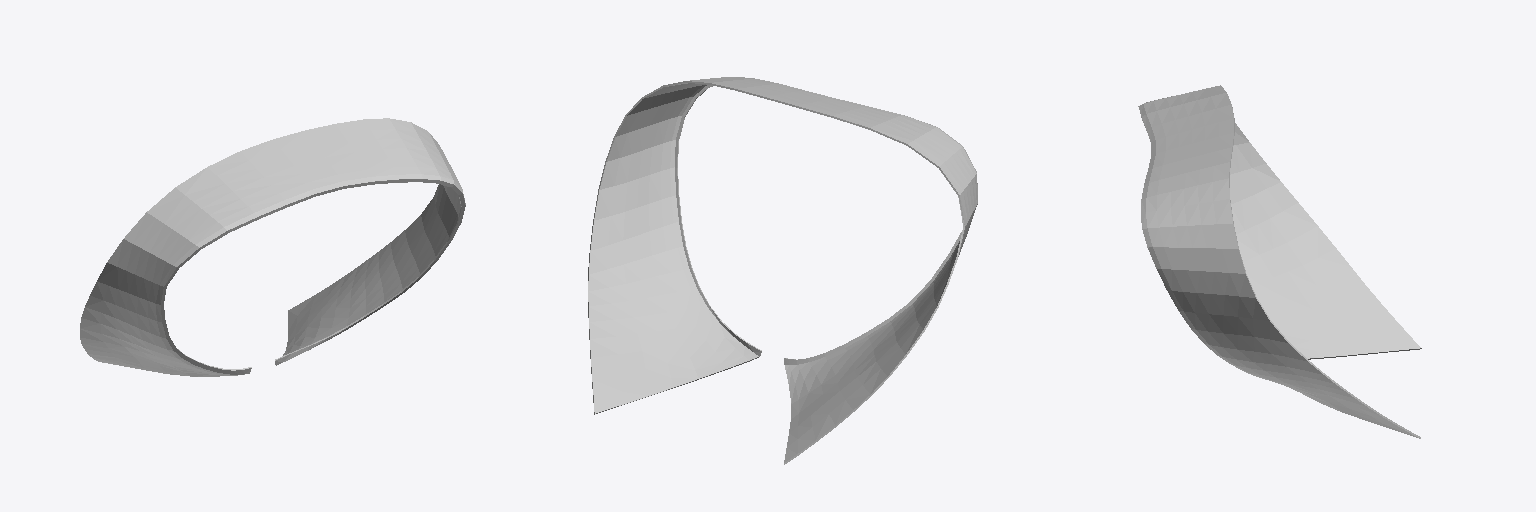
The model's file is collar_button_down.obj.
3 renders of one model, left to right at view 1: azimuth 30°, elevation 25°; view 2: azimuth 150°, elevation 25°; view 3: azimuth 270°, elevation 25°, orthographic.
Visible parts, largest first — view 1: button_down; view 2: button_down; view 3: button_down.
Part boxes in pixels (left/top/right/bottom): button_down: left=80, top=118, right=465, bottom=376; button_down: left=588, top=77, right=977, bottom=464; button_down: left=1138, top=85, right=1421, bottom=438.
Size of the model in its own units: 17.68 by 13.16 by 12.42.